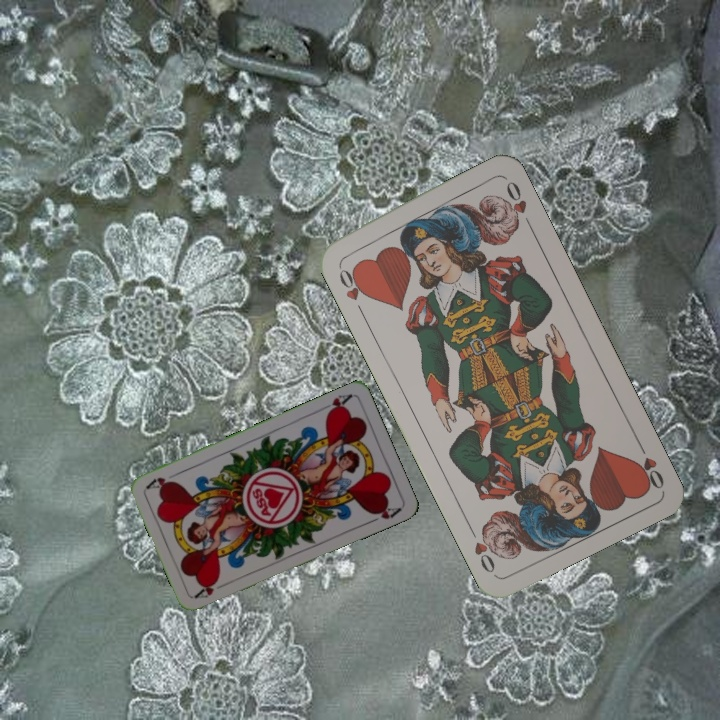HA: (316, 390, 354, 418), (191, 576, 221, 601)
HO: (334, 261, 371, 317), (631, 436, 667, 492)
